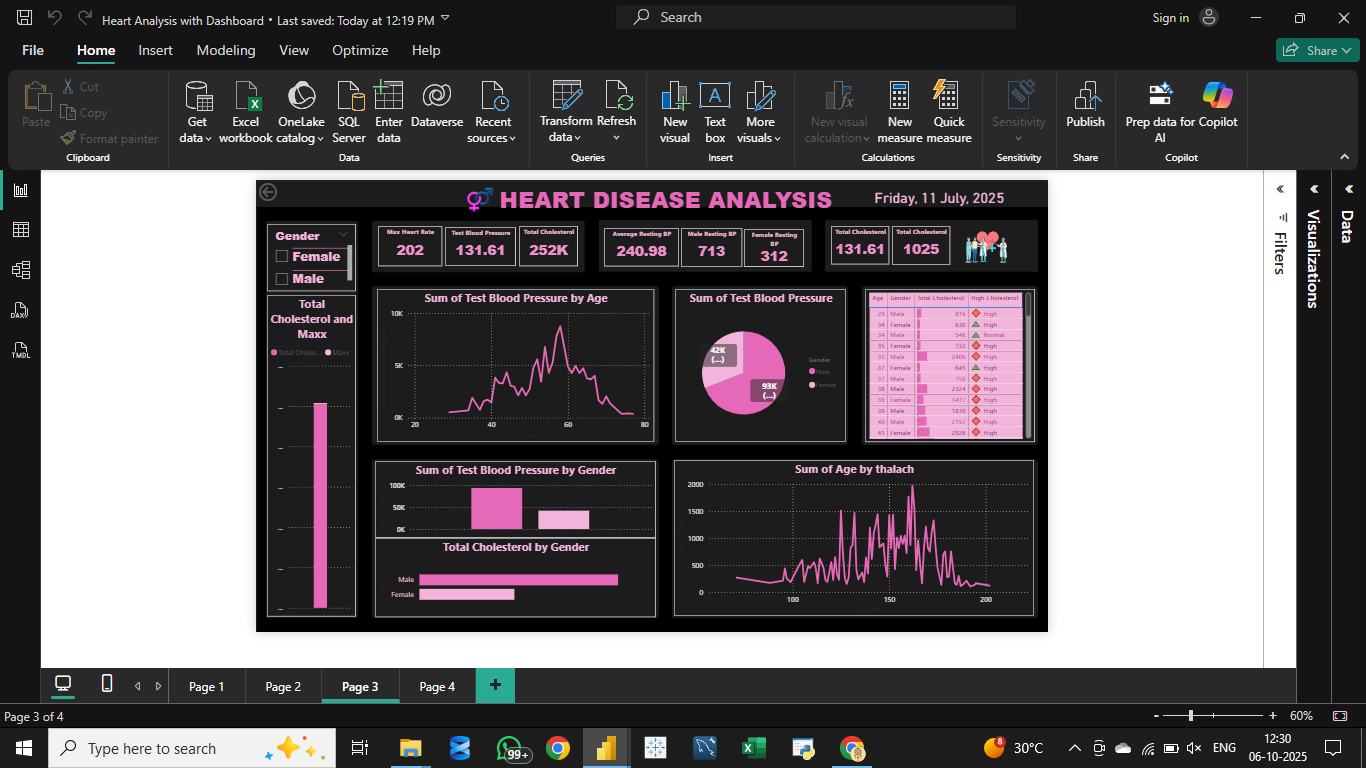

The dashboard page shown, as its layout file describes it:
{"tool":"powerbi","page":{"name":"Page 3","canvas":[1320,754],"ordinal":2},"visuals":[{"type":"card","title":"Total Cholesterol","fields":{"Values":["heart.Total Cholesterol"]},"box":[438.3,76.7,98.3,66.7],"z":0},{"type":"card","title":"Test Blood Pressure","fields":{"Values":["Avg(heart.Test Blood Pressure)"]},"box":[315,78.3,118.3,65],"z":1000},{"type":"card","title":"Male Resting BP","fields":{"Values":["heart.Total Male Records"]},"box":[708.3,79.8,101.7,65],"z":2000},{"type":"card","title":"Female Resting BP","fields":{"Values":["heart.Total Female Records"]},"box":[813.3,81.5,100,63.3],"z":3000},{"type":"card","title":"Max Heart Rate","fields":{"Values":["heart.Max Heart Rate"]},"box":[203.3,76.7,106.7,66.7],"z":4000},{"type":"card","title":"Average Resting BP","fields":{"Values":["heart.Avg Cholesterol Target 1"]},"box":[580.6,80.5,125,64],"z":5000},{"type":"card","title":"Total Cholesterol","fields":{"Values":["heart.Overall Average BP"]},"box":[958.3,77.3,97,64],"z":6000},{"type":"card","title":"Total Cholesterol","fields":{"Values":["heart.Total Patient"]},"box":[1060,76.7,96.7,65],"z":7000},{"type":"lineChart","fields":{"Category":["heart.age"],"Y":["Sum(heart.Test Blood Pressure)"]},"box":[200.9,181.8,461.8,254.5],"z":8000},{"type":"pieChart","title":"Sum of Test Blood Pressure","fields":{"Y":["Sum(heart.Test Blood Pressure)"],"Category":["heart.Gender"]},"box":[698.3,181.7,285,255],"z":9000},{"type":"barChart","fields":{"Category":["heart.Gender"],"Y":["heart.Total Cholesterol"]},"box":[198.3,596.7,468.3,131.7],"z":10000},{"type":"lineChart","fields":{"Category":["heart.thalach"],"Y":["Sum(heart.Age)"]},"box":[697.3,467.3,600,260],"z":11000},{"type":"columnChart","fields":{"Category":["heart.Gender"],"Y":["Sum(heart.Test Blood Pressure)"]},"box":[198.3,468.3,468.3,128.3],"z":12000},{"type":"slicer","fields":{"Values":["heart.Gender"]},"box":[18.3,73.3,148.3,111.7],"z":13000},{"type":"columnChart","fields":{"Y":["heart.Total Cholesterol","heart.Maxx"]},"box":[18.2,191.8,148.2,536.4],"z":14000},{"type":"tableEx","fields":{"Values":["heart.Age","heart.Gender","heart.Total Cholesterol","heart.High Cholesterol"]},"box":[1014.5,181.8,282.7,255.5],"z":15000},{"type":"image","box":[1156,66,120,90],"z":16000},{"type":"textbox","box":[374,0,620,66],"z":17000},{"type":"image","box":[340,5,66.7,56.7],"z":18000},{"type":"card","fields":{"Values":["Min(Query2.Date)"]},"box":[958.3,5,361.7,48.3],"z":19000},{"type":"actionButton","box":[0,0,100,40],"z":20000}]}

Visuals, with their boxes on the page's 1320x754 design canvas (x1, y1, x2, y2). These are canvas units, not pixel positions in the 1366x768 screenshot, which may show the page scaled, cropped or inside an application window:
"Total Cholesterol" card: <box>438,77,537,143</box>
"Test Blood Pressure" card: <box>315,78,433,143</box>
"Male Resting BP" card: <box>708,80,810,145</box>
"Female Resting BP" card: <box>813,82,913,145</box>
"Max Heart Rate" card: <box>203,77,310,143</box>
"Average Resting BP" card: <box>581,80,706,144</box>
"Total Cholesterol" card: <box>958,77,1055,141</box>
"Total Cholesterol" card: <box>1060,77,1157,142</box>
lineChart - heart.age x Sum(heart.Test Blood Pressure): <box>201,182,663,436</box>
"Sum of Test Blood Pressure" pieChart: <box>698,182,983,437</box>
barChart - heart.Gender x heart.Total Cholesterol: <box>198,597,667,728</box>
lineChart - heart.thalach x Sum(heart.Age): <box>697,467,1297,727</box>
columnChart - heart.Gender x Sum(heart.Test Blood Pressure): <box>198,468,667,597</box>
slicer - heart.Gender: <box>18,73,167,185</box>
columnChart - heart.Total Cholesterol x heart.Maxx: <box>18,192,166,728</box>
tableEx - heart.Age x heart.Gender: <box>1014,182,1297,437</box>
image: <box>1156,66,1276,156</box>
textbox: <box>374,0,994,66</box>
image: <box>340,5,407,62</box>
card - Min(Query2.Date): <box>958,5,1320,53</box>
actionButton: <box>0,0,100,40</box>
